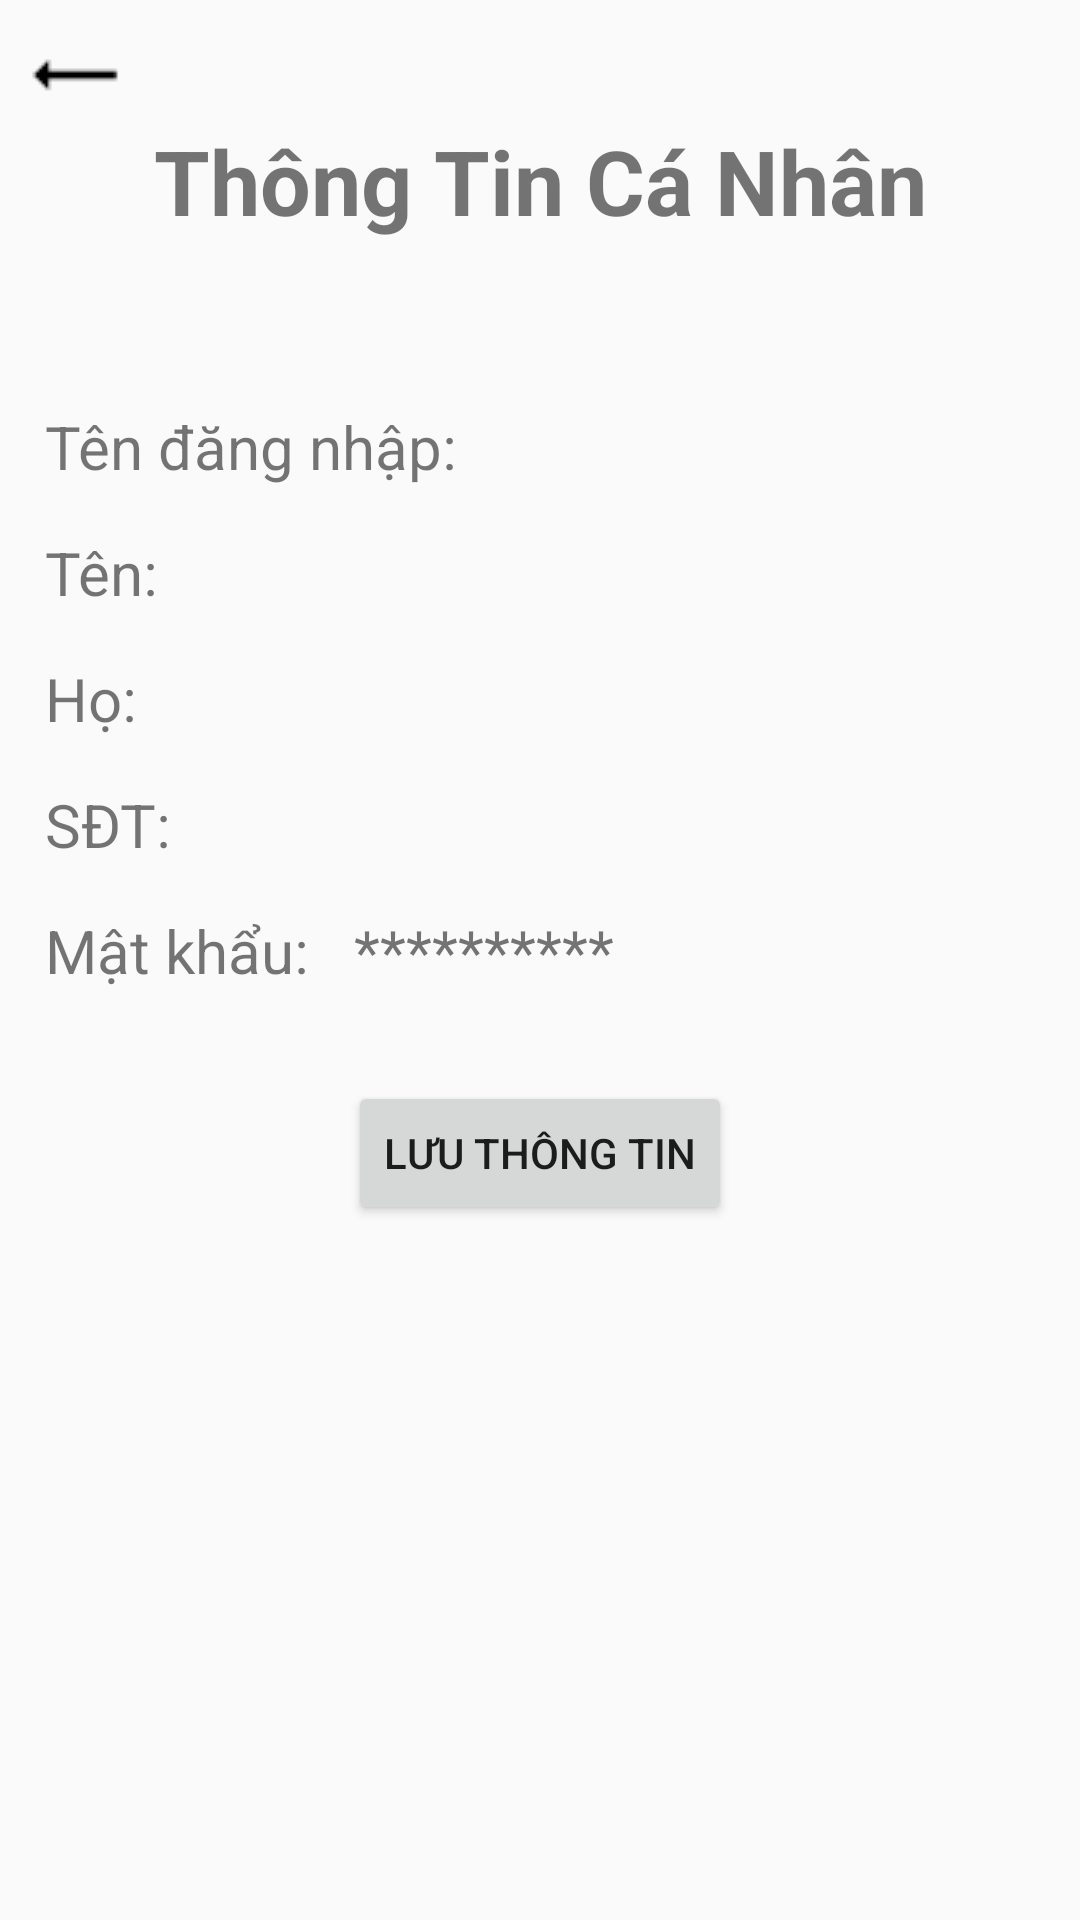

Icon click points for this 1080x1920 phone screenshot, format [x,y]:
back: [75,75]
